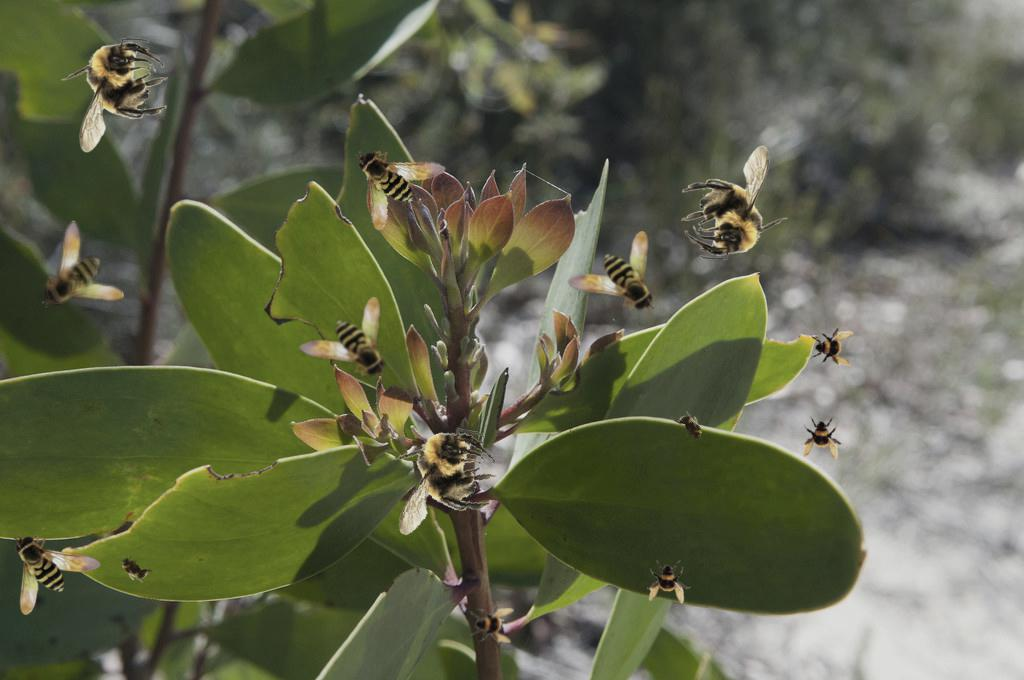Bee: (378, 417, 505, 550), (681, 145, 788, 260), (61, 38, 168, 153), (354, 137, 454, 233), (42, 220, 124, 308), (567, 231, 655, 313), (299, 297, 387, 379), (13, 533, 101, 615), (647, 560, 691, 604), (470, 601, 514, 645), (801, 416, 845, 460), (810, 324, 854, 368), (670, 405, 712, 451), (111, 547, 157, 589)
